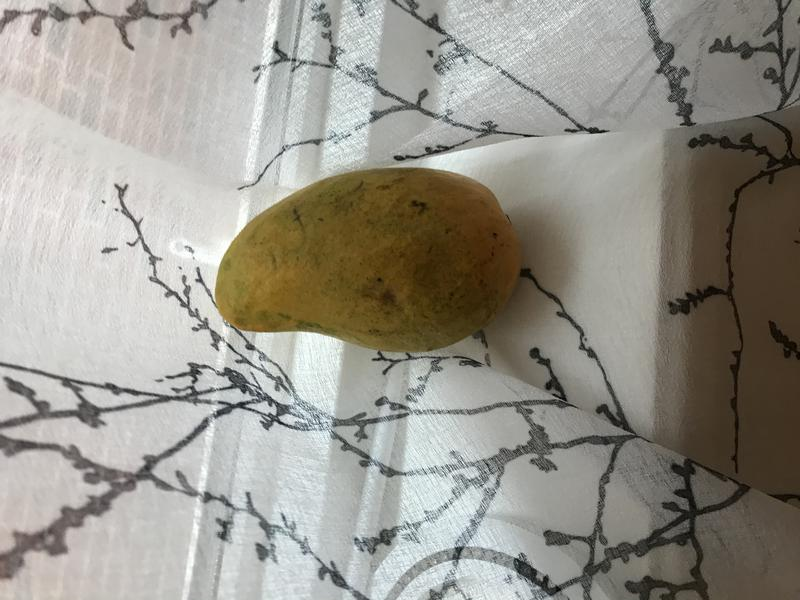mango: (205, 161, 532, 358)
